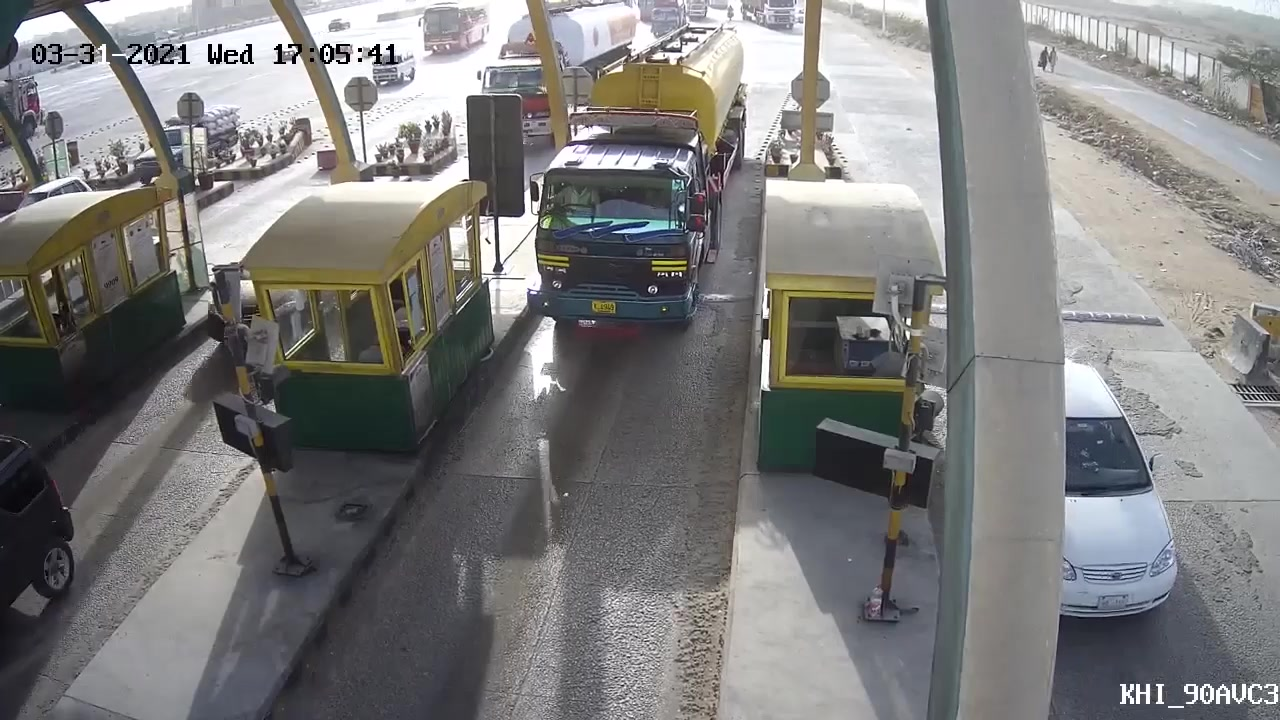F6: (524, 30, 751, 339)
